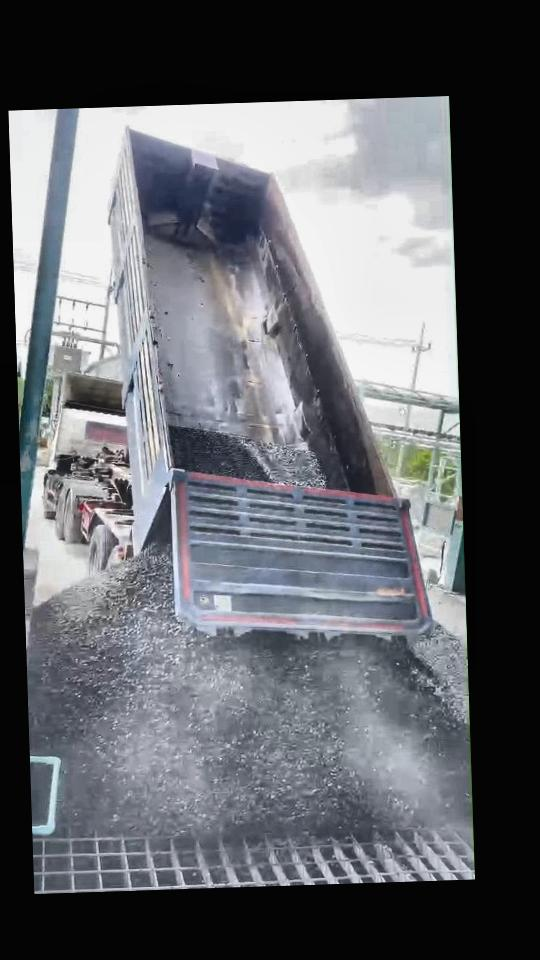gravel: (26, 548, 470, 838), (170, 427, 328, 487), (407, 623, 466, 722), (30, 762, 52, 825)
